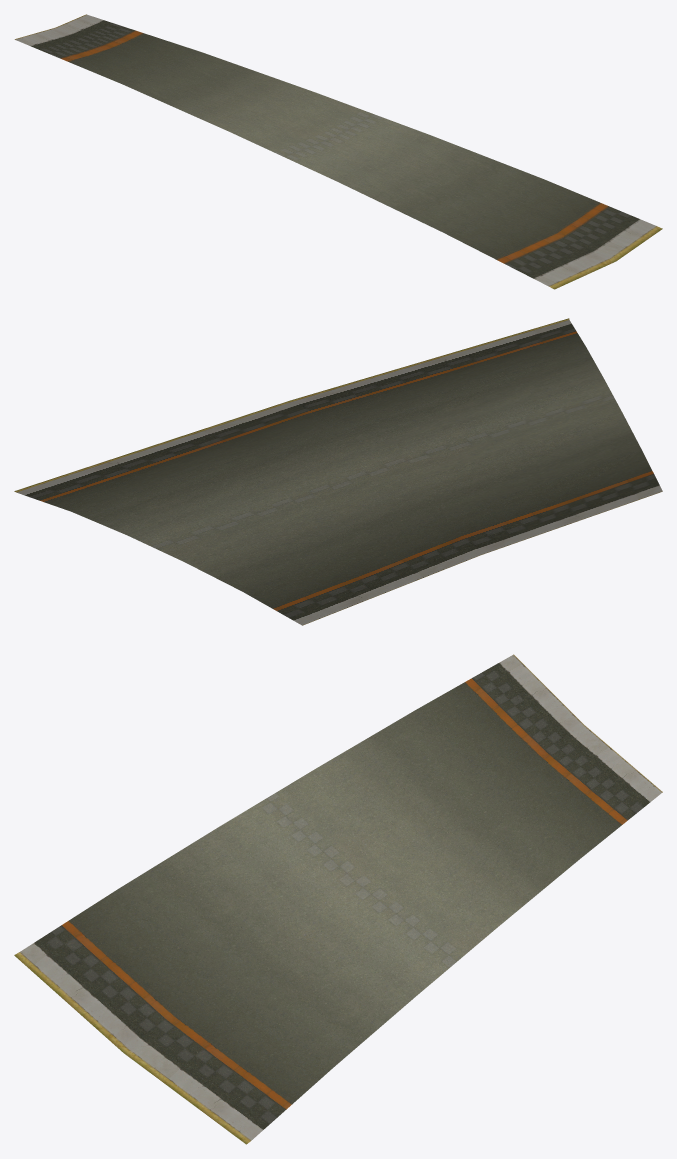
The model's file is mario_circuit_8_checkpoint.glb.
3 renders of one model, top to bottom at view 1: azimuth 30°, elevation 25°; view 2: azimuth 150°, elevation 25°; view 3: azimuth 270°, elevation 25°, orthographic. The views are drawn at different scales.
Visible parts, largest first — view 1: Object_7; view 2: Object_7; view 3: Object_7.
Part boxes in pixels (x1=…): Object_7: x1=14, y1=14, x2=662, y2=289; Object_7: x1=14, y1=318, x2=662, y2=625; Object_7: x1=14, y1=654, x2=662, y2=1144.
Size of the model in its own units: 6.49 by 2.64 by 6.8.
1 material, 1 textured.
